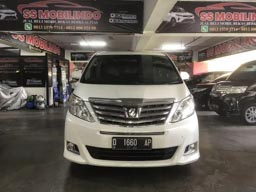plat: (111, 137, 152, 146)
